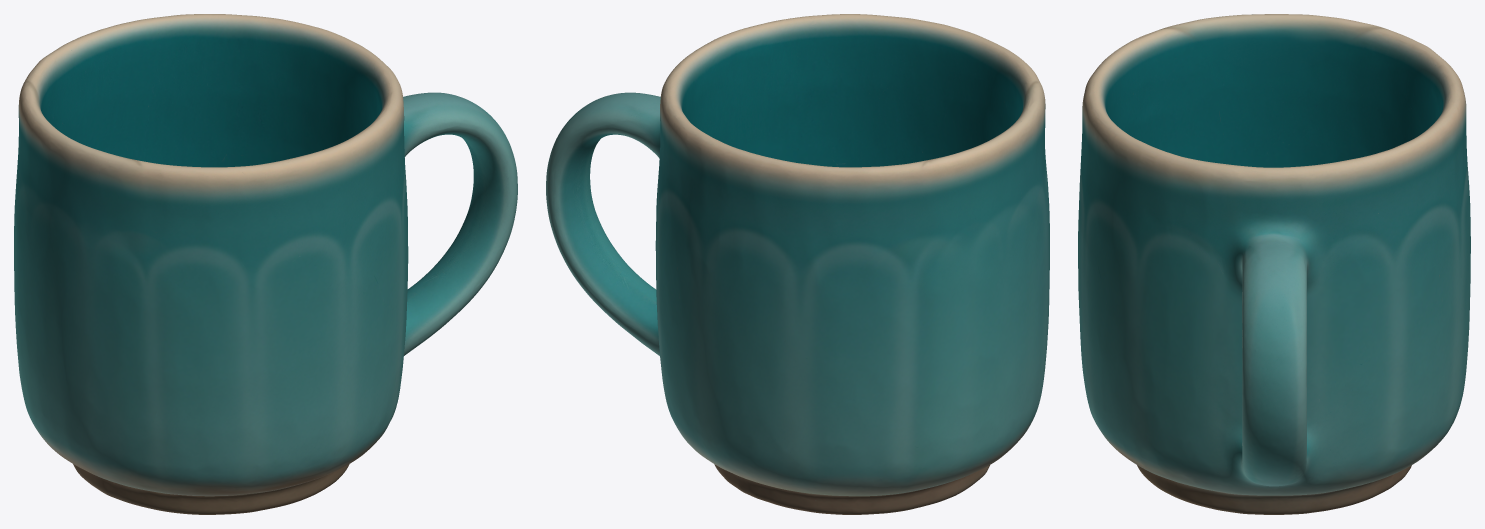
Rendered from mug.glb.
3 renders of one model, left to right at view 1: azimuth 30°, elevation 25°; view 2: azimuth 150°, elevation 25°; view 3: azimuth 270°, elevation 25°, orthographic.
Bounding box in the file's own units: 1.9 × 1.43 × 1.38.
Materials: 1 (1 with a texture image).
